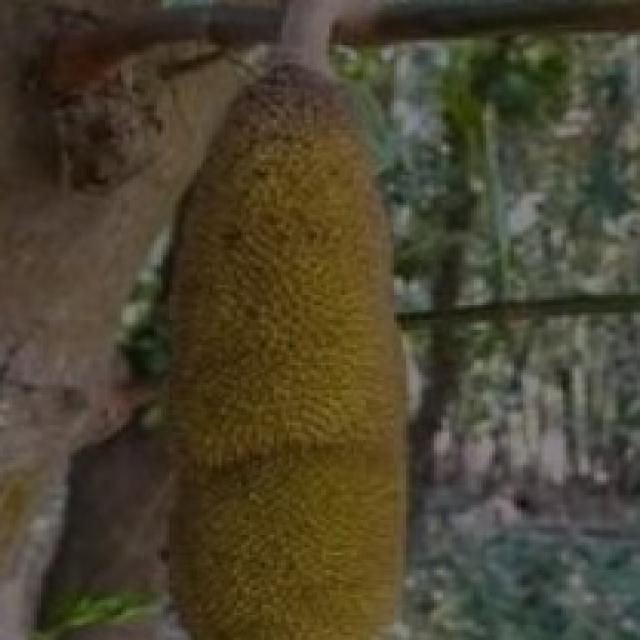Fruit: (95, 13, 452, 465), (101, 245, 468, 640)
